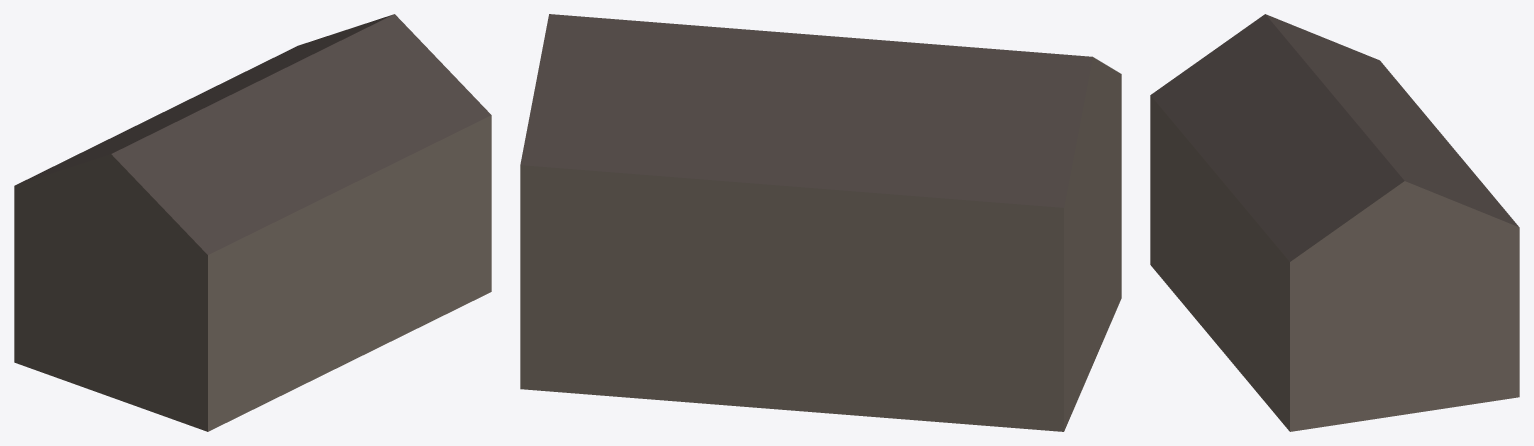
The picture shows the model from 3 angles, left to right: view 1: azimuth 30°, elevation 25°; view 2: azimuth 150°, elevation 25°; view 3: azimuth 270°, elevation 25°; orthographic projection. The views are drawn at different scales.
Visible parts, largest first — view 1: HP-w859457371; view 2: HP-w859457371; view 3: HP-w859457371.
Boxes of the visible parts, left/top/right/bottom form: HP-w859457371: left=14, top=14, right=491, bottom=431; HP-w859457371: left=520, top=14, right=1121, bottom=431; HP-w859457371: left=1150, top=14, right=1519, bottom=431.
Bounding box in the file's own units: 15.28 × 8.25 × 11.82.
